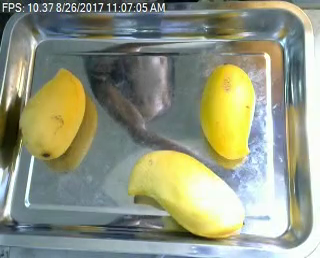Mango: (127, 145, 248, 242), (12, 66, 88, 160), (195, 60, 260, 159)
